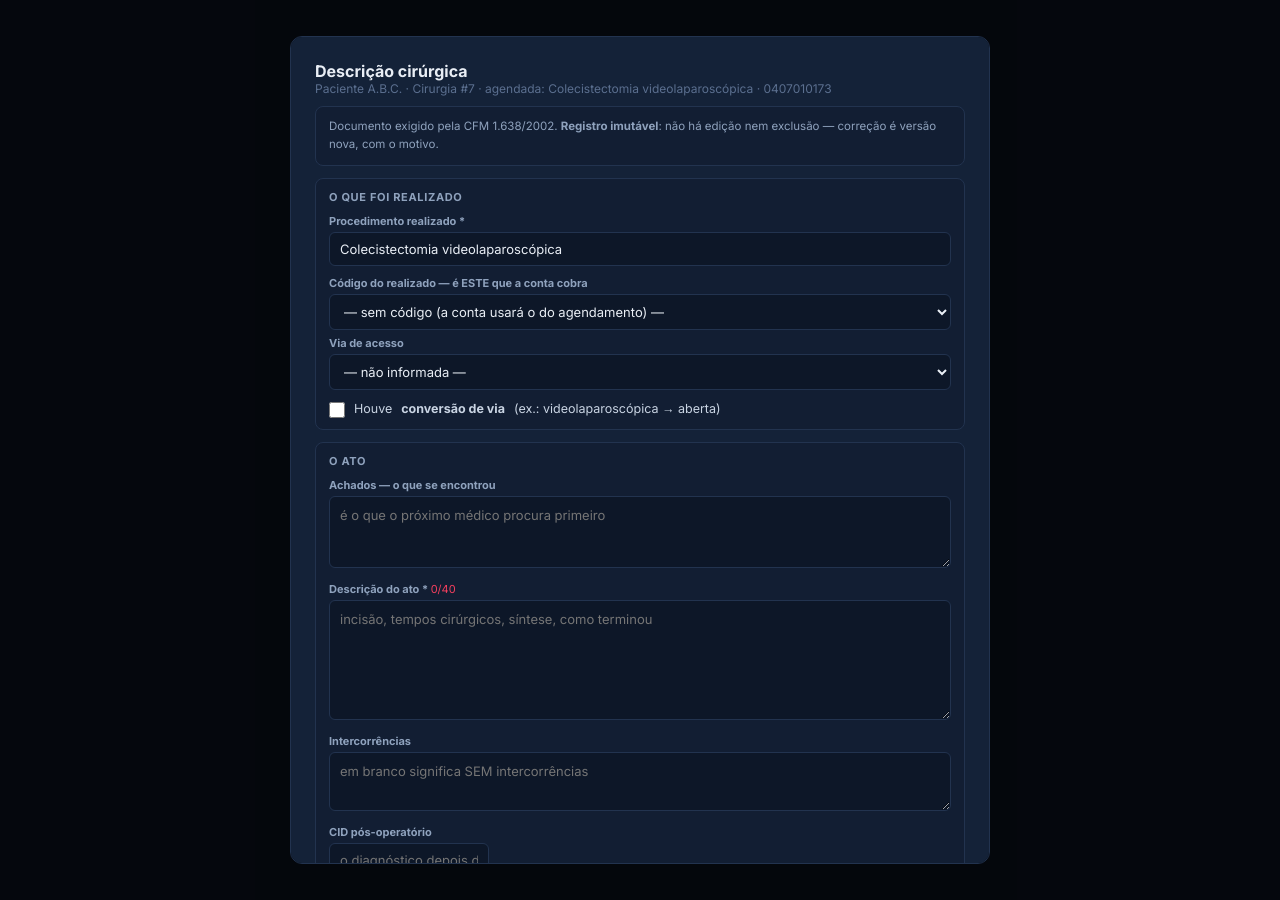
Test: 🔴 o modal da descrição cirúrgica › 🔴 a recusa do banco NÃO fecha o modal — a pessoa acabou de escrever tudo
The width and height of the screenshot is (1280, 900).
Replace the text in the field with placeholder "o ato que aconteceu, não o que estava marcado" with "X": (640, 249) top-left (329, 232), bottom-right (951, 266)
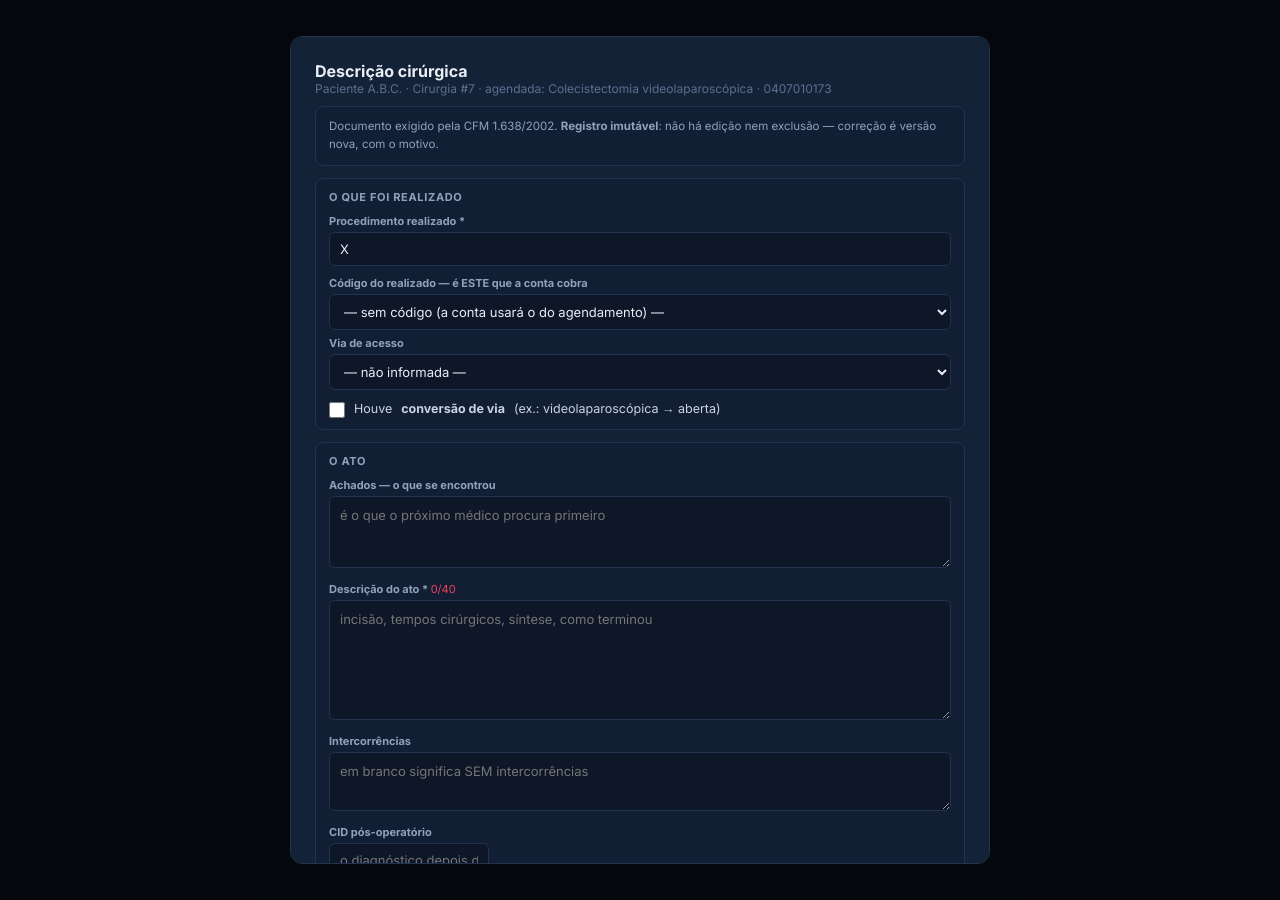
In the text box with placeholder "incisão, tempos cirúrgicos, síntese, como terminou": (640, 660) top-left (329, 600), bottom-right (951, 720), type "Incisão subcostal direita. Colecistectomia sem intercorrências, colédoco preservado."
(page scrolled)
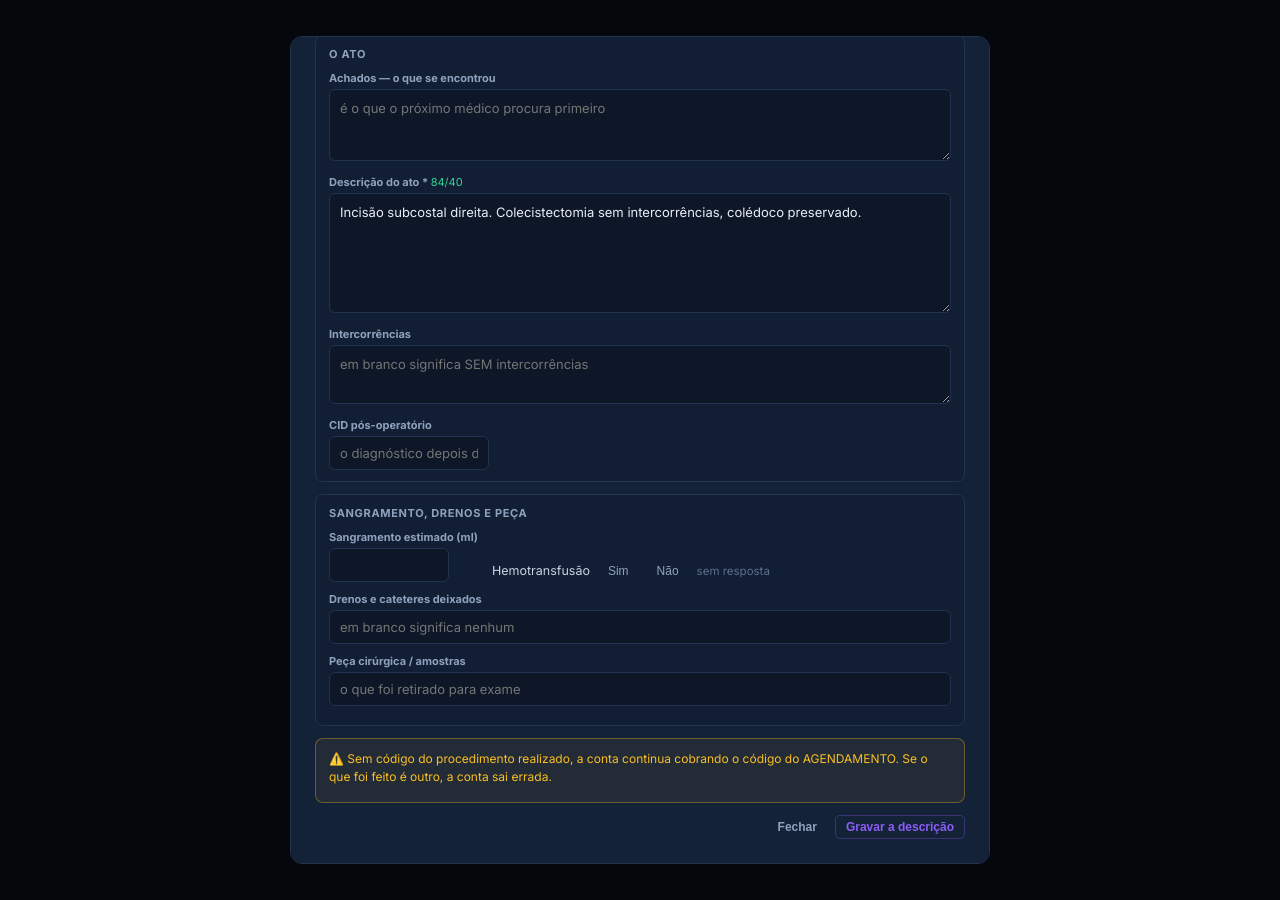
Click the button "Gravar a descrição": (900, 827) top-left (835, 815), bottom-right (965, 839)
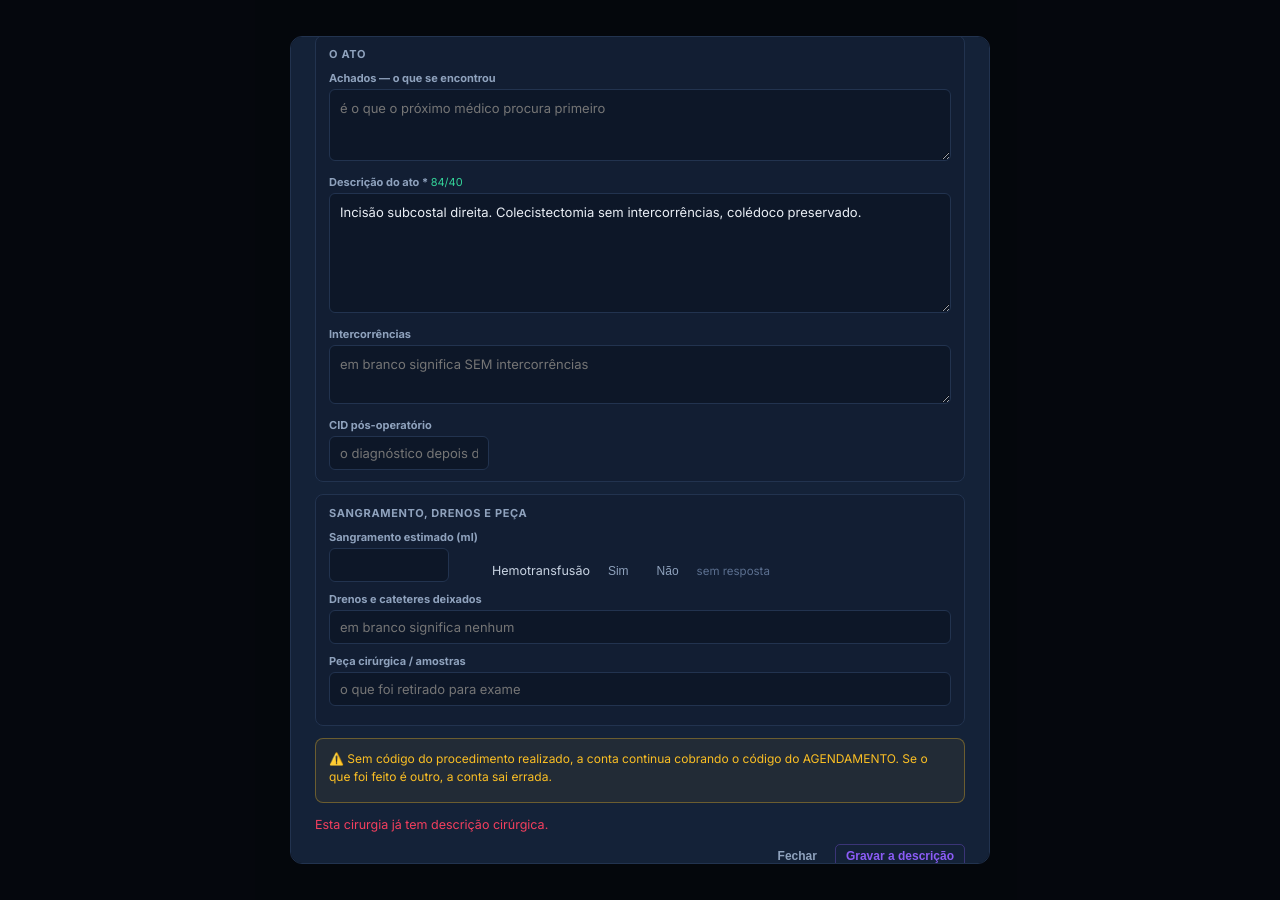
Check: the text "Esta cirurgia já tem descrição cirúrgica." is shown, box top-left (315, 817), bottom-right (548, 832)
